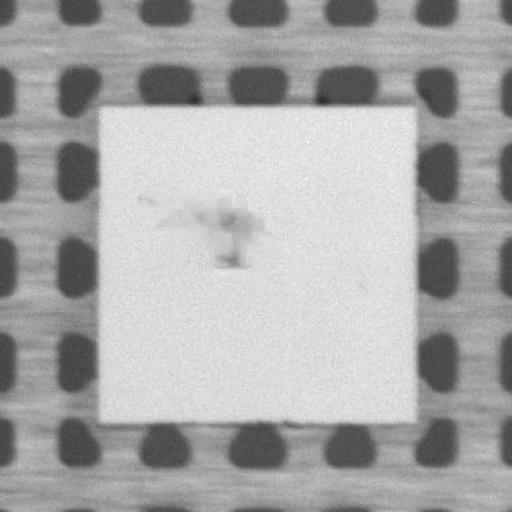DIE_INK: (199, 204, 256, 267)
